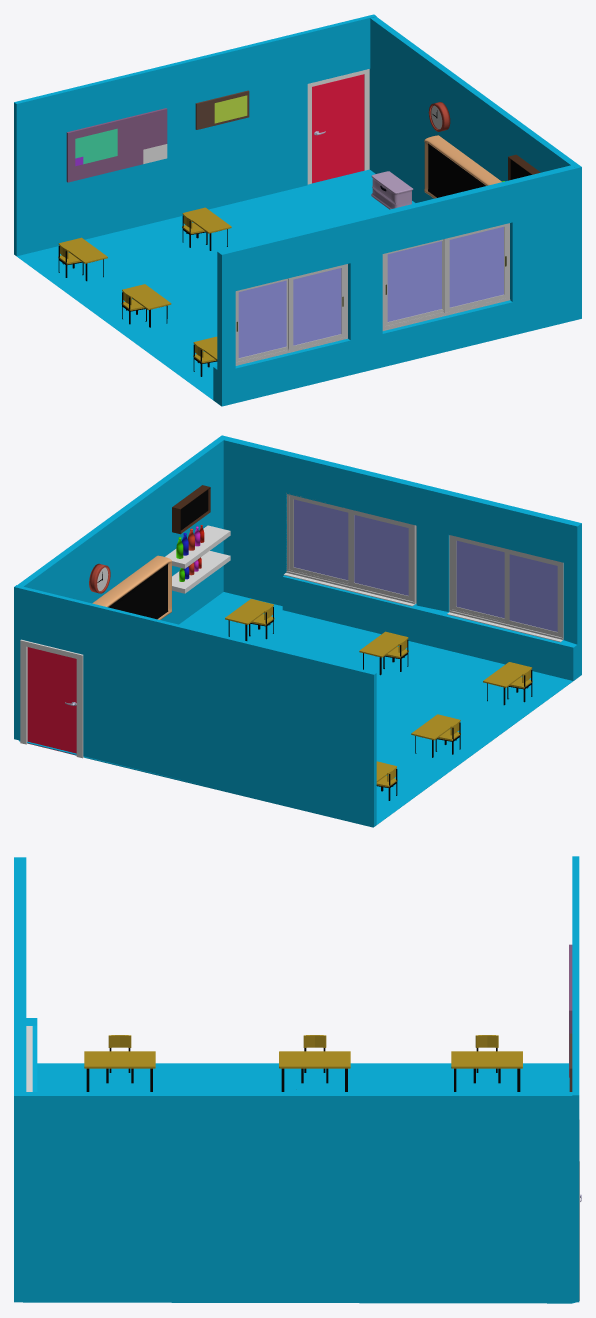
File: Classroom.glb
3 renders of one model, top to bottom at view 1: azimuth 30°, elevation 25°; view 2: azimuth 150°, elevation 25°; view 3: azimuth 270°, elevation 25°, orthographic. The views are drawn at different scales.
Parts seen in each view (by area): view 1: Plane.001, Cube.006, Door, Window.R.001, Window.L.001, Window.R, Cube.001, Window.L, Cube, Cube.005, DoorFrame, Cube.007 (+4 smaller); view 2: Plane.001, Cube.001, Window.L.001, Door, Window.R.001, Window.L, Window.R, Cube, DoorFrame, WindowFrame.001, Cube.002, WindowFrame (+3 smaller); view 3: Plane.001, Cube.001.
Boxes of the visible parts, x1=… form: Plane.001: x1=14, y1=14, x2=581, y2=406; Cube.006: x1=66, y1=108, x2=167, y2=182; Door: x1=312, y1=74, x2=364, y2=183; Window.R.001: x1=443, y1=224, x2=507, y2=312; Window.L.001: x1=385, y1=239, x2=443, y2=325; Window.R: x1=287, y1=265, x2=344, y2=350; Cube.001: x1=58, y1=207, x2=231, y2=376; Window.L: x1=236, y1=278, x2=287, y2=361; Cube: x1=424, y1=135, x2=501, y2=198; Cube.005: x1=195, y1=90, x2=249, y2=129; DoorFrame: x1=307, y1=69, x2=369, y2=184; Cube.007: x1=371, y1=171, x2=413, y2=209; Plane.001: x1=14, y1=435, x2=581, y2=827; Cube.001: x1=225, y1=599, x2=532, y2=800; Window.L.001: x1=348, y1=509, x2=412, y2=600; Door: x1=27, y1=647, x2=76, y2=755; Window.R.001: x1=289, y1=496, x2=348, y2=583; Window.L: x1=504, y1=549, x2=561, y2=636; Window.R: x1=452, y1=537, x2=504, y2=621; Cube: x1=92, y1=555, x2=171, y2=619; DoorFrame: x1=20, y1=639, x2=83, y2=758; WindowFrame.001: x1=286, y1=493, x2=416, y2=603; Cube.002: x1=172, y1=485, x2=210, y2=534; WindowFrame: x1=449, y1=535, x2=563, y2=639; Plane.001: x1=14, y1=856, x2=579, y2=1303; Cube.001: x1=84, y1=1035, x2=522, y2=1091.
Bounding box in the file's own units: 40.07 × 16.55 × 40.25.
